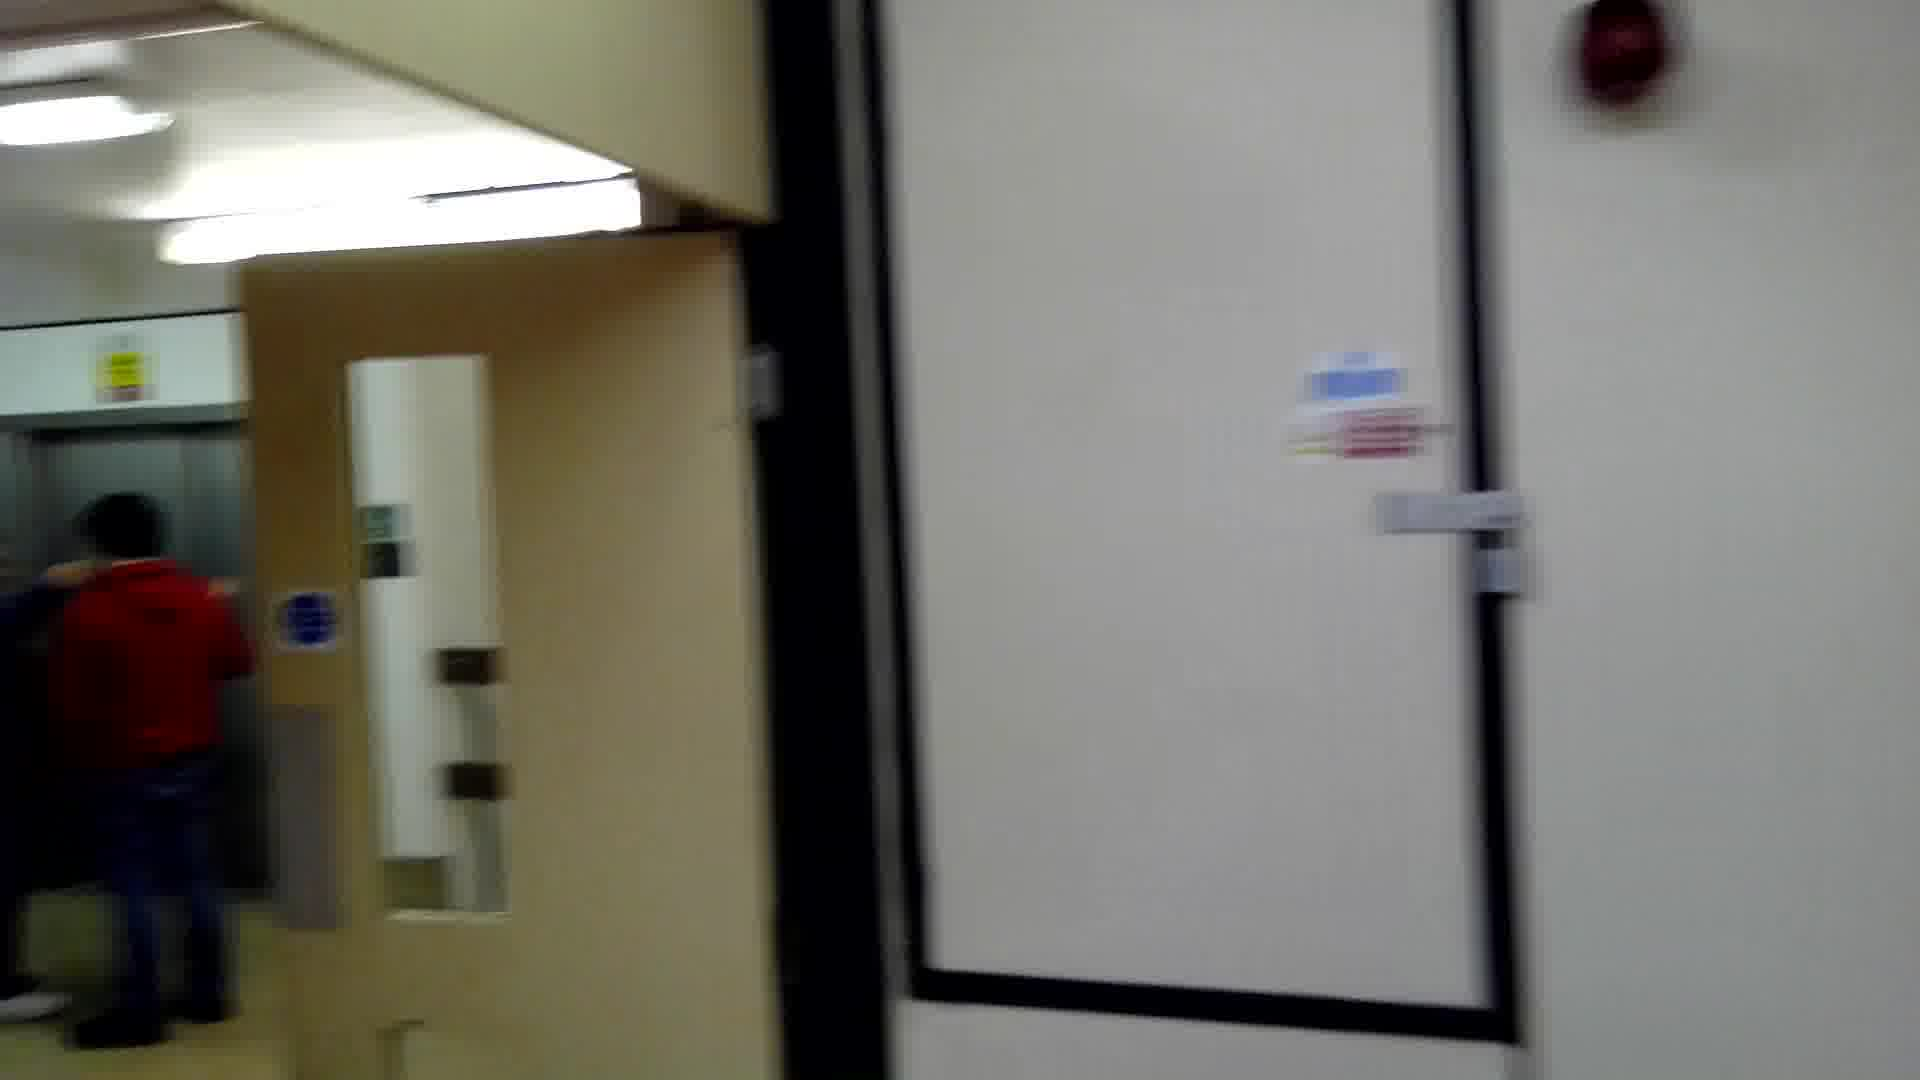Door: (225, 242, 809, 1080)
Person: (41, 481, 252, 1050)
